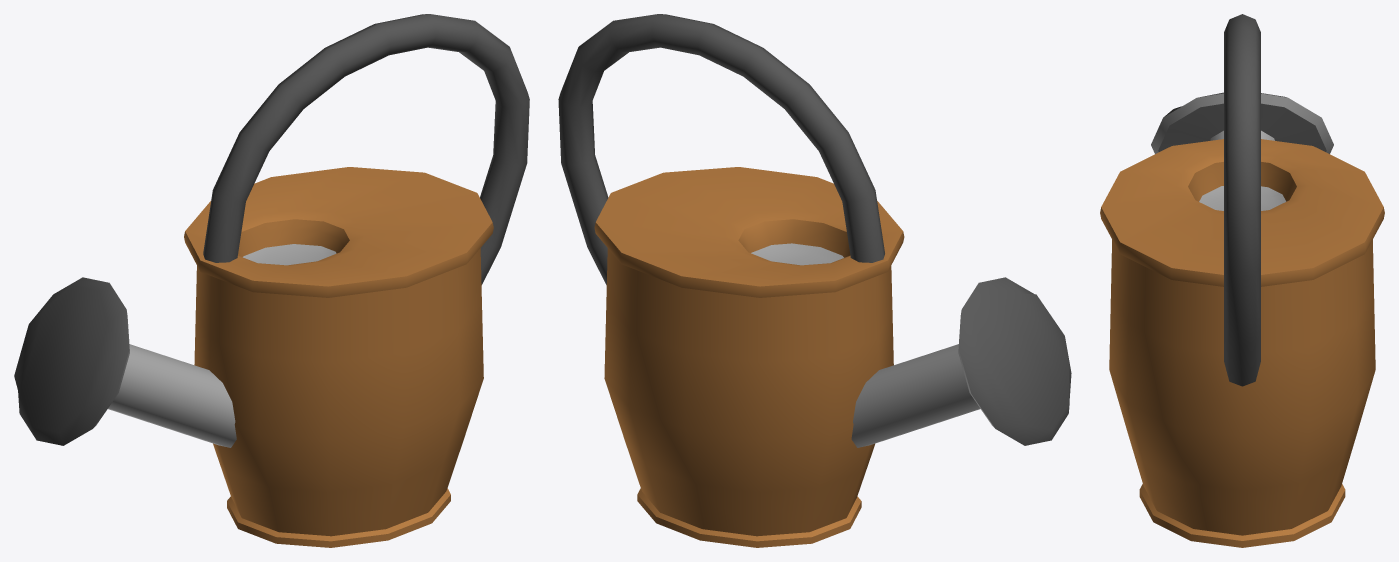
Rendered from gieter.fbx.
3 views of the same model, side by side, from view 1: azimuth 30°, elevation 25°; view 2: azimuth 150°, elevation 25°; view 3: azimuth 270°, elevation 25° (orthographic). The views are drawn at different scales.
Visible parts, largest first — view 1: Cylinder, Cylinder.001, BézierCurve; view 2: Cylinder, Cylinder.001, BézierCurve; view 3: Cylinder, BézierCurve, Cylinder.001.
Boxes of the visible parts, box(x1,y1,x2,y2) form: Cylinder: box(184, 167, 493, 547); Cylinder.001: box(14, 277, 236, 447); BézierCurve: box(203, 14, 529, 284); Cylinder: box(594, 167, 904, 547); Cylinder.001: box(851, 277, 1071, 447); BézierCurve: box(558, 14, 884, 284); Cylinder: box(1100, 139, 1384, 547); BézierCurve: box(1224, 14, 1260, 386); Cylinder.001: box(1151, 92, 1333, 153).
Bounding box in the file's own units: 0.4803 × 0.2301 × 0.4372.
